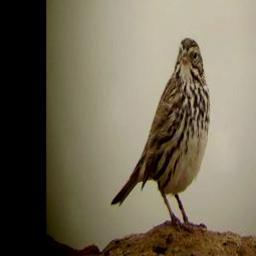Sparrow: (109, 36, 211, 234)
